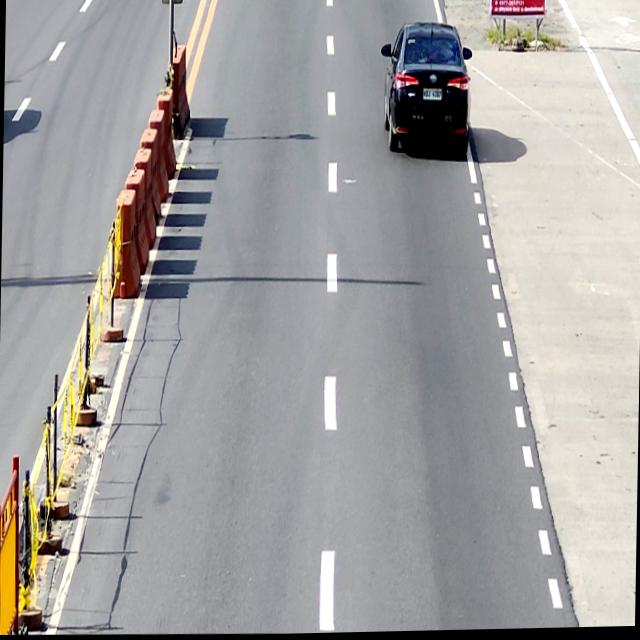Car: (378, 21, 474, 160)
License-Plate: (422, 88, 442, 103)
